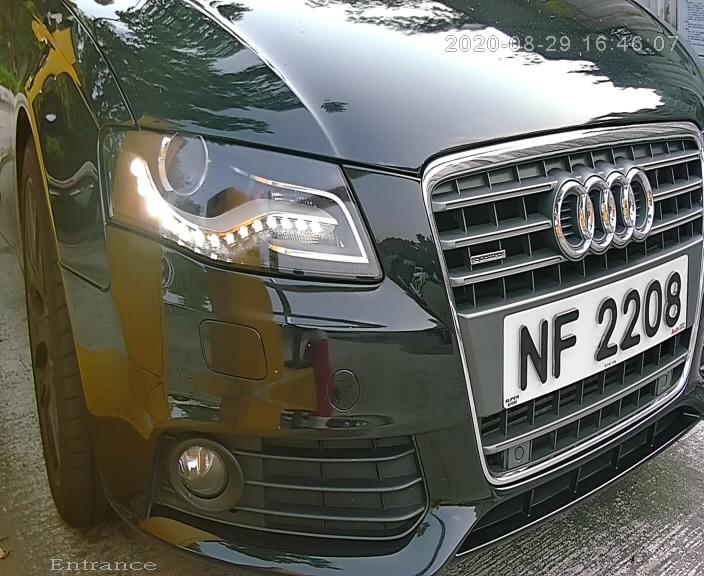License Plate: (488, 238, 695, 415)
